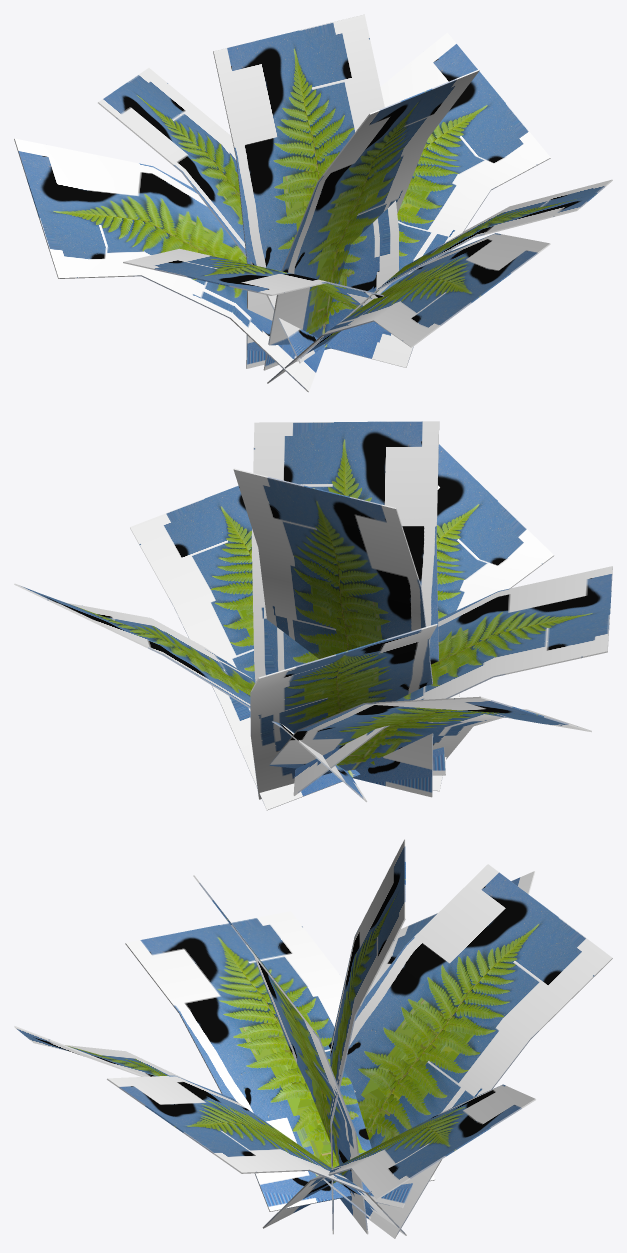
The model's file is Fern_Complite.FBX.
The picture shows the model from 3 angles, top to bottom: view 1: azimuth 30°, elevation 25°; view 2: azimuth 150°, elevation 25°; view 3: azimuth 270°, elevation 25°; orthographic projection. The views are drawn at different scales.
Parts seen in each view (by area): view 1: Fern; view 2: Fern; view 3: Fern.
Boxes of the visible parts, left/top/right/bottom form: Fern: left=14, top=14, right=612, bottom=392; Fern: left=14, top=421, right=612, bottom=810; Fern: left=14, top=839, right=612, bottom=1238.
Bounding box in the file's own units: 102 × 61.61 × 100.
